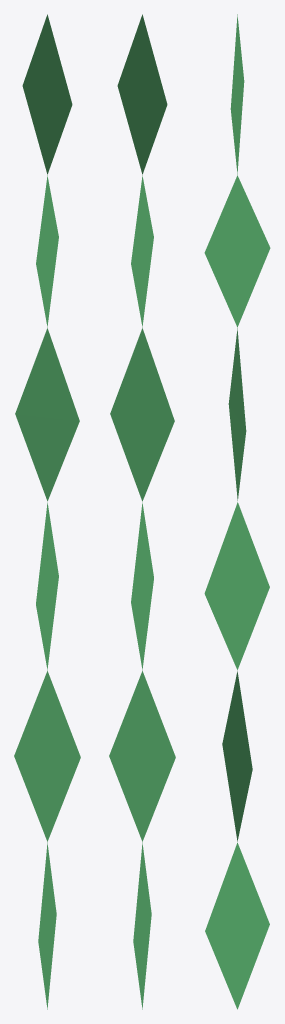
The model's file is seaweed_2.fbx.
3 renders of one model, left to right at view 1: azimuth 30°, elevation 25°; view 2: azimuth 210°, elevation 25°; view 3: azimuth 330°, elevation 25°, orthographic.
Parts seen in each view (by area): view 1: seaweed_2; view 2: seaweed_2; view 3: seaweed_2.
Part boxes in pixels (x1=…): seaweed_2: x1=14, y1=14, x2=80, y2=1009; seaweed_2: x1=109, y1=14, x2=175, y2=1009; seaweed_2: x1=204, y1=14, x2=270, y2=1009.
Bounding box in the file's own units: 83.91 × 1641 × 94.94.
